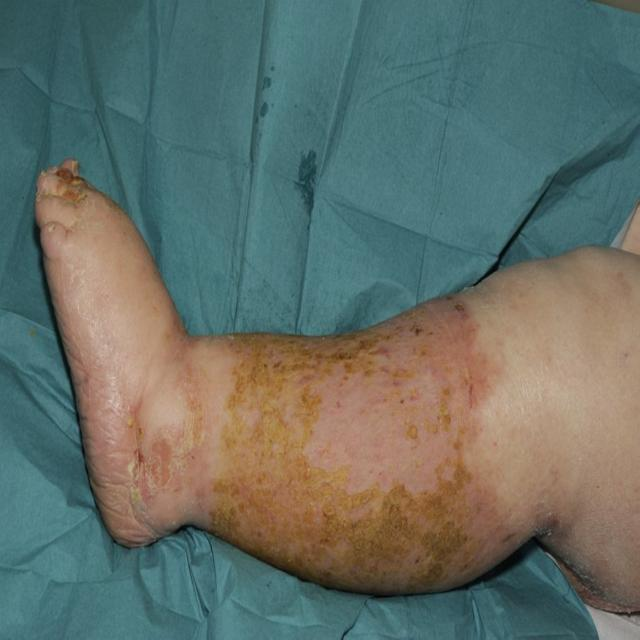wound: (211, 295, 498, 594)
